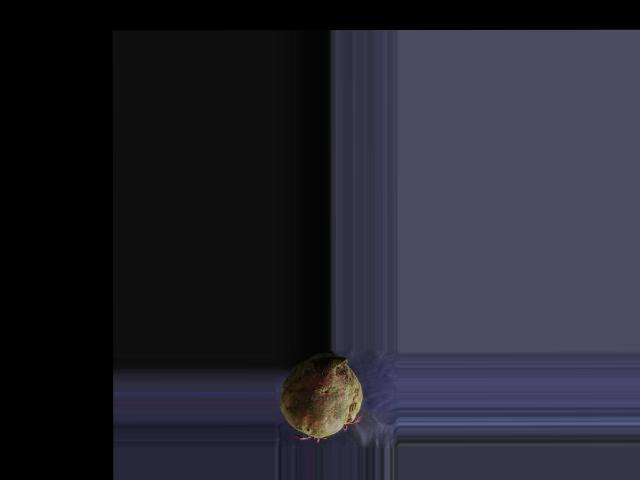beet: (280, 353, 363, 441)
